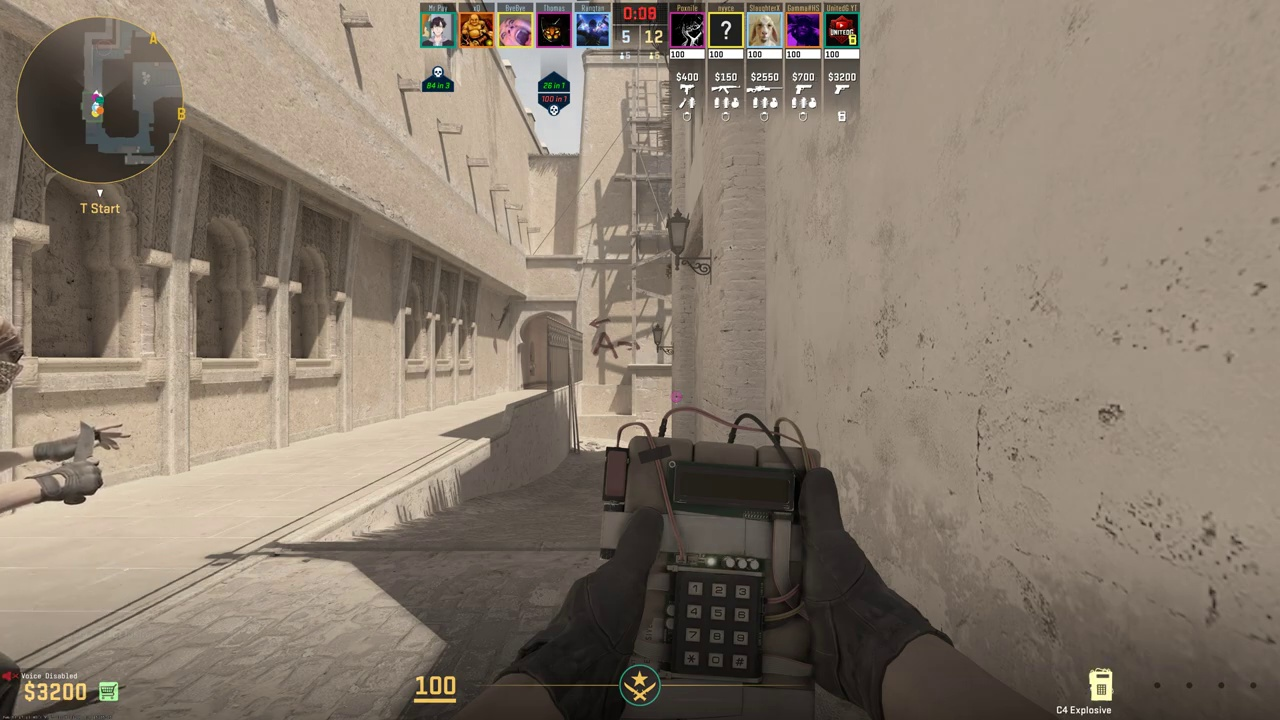Terrorist: (0, 294, 53, 720)
